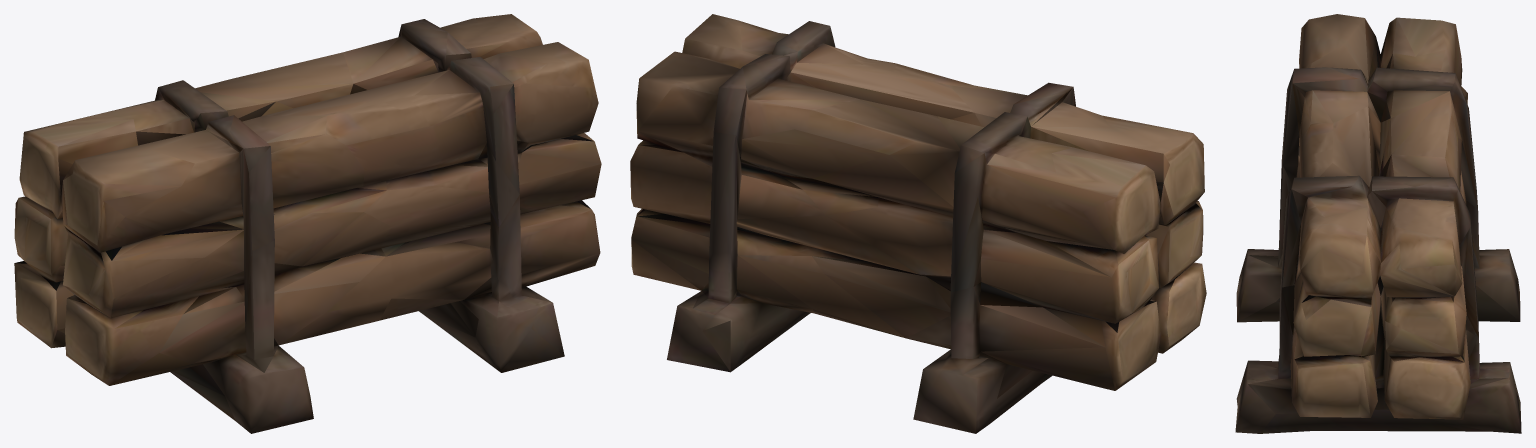
Rendered from lumber_stack.glb.
The picture shows the model from 3 angles, left to right: view 1: azimuth 30°, elevation 25°; view 2: azimuth 150°, elevation 25°; view 3: azimuth 270°, elevation 25°; orthographic projection. The views are drawn at different scales.
Parts seen in each view (by area): view 1: tripo_node_5fcd6cd9-32e8-4bba-b7a8-713a13e2c8ea; view 2: tripo_node_5fcd6cd9-32e8-4bba-b7a8-713a13e2c8ea; view 3: tripo_node_5fcd6cd9-32e8-4bba-b7a8-713a13e2c8ea.
Part boxes in pixels (x1=…): tripo_node_5fcd6cd9-32e8-4bba-b7a8-713a13e2c8ea: x1=14, y1=14, x2=601, y2=433; tripo_node_5fcd6cd9-32e8-4bba-b7a8-713a13e2c8ea: x1=630, y1=14, x2=1206, y2=433; tripo_node_5fcd6cd9-32e8-4bba-b7a8-713a13e2c8ea: x1=1235, y1=14, x2=1521, y2=433.
Bounding box in the file's own units: 0.9785 × 0.4881 × 0.5287.
1 material, 1 textured.
